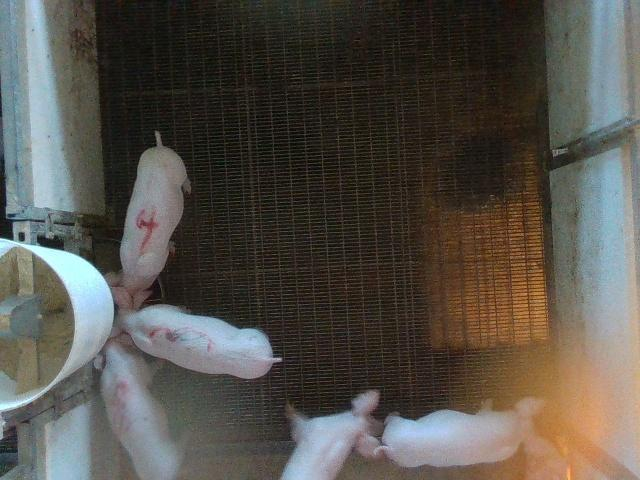pig-3: (111, 289, 281, 378)
pig-4: (120, 131, 190, 290)
pig-5: (101, 336, 181, 479)
